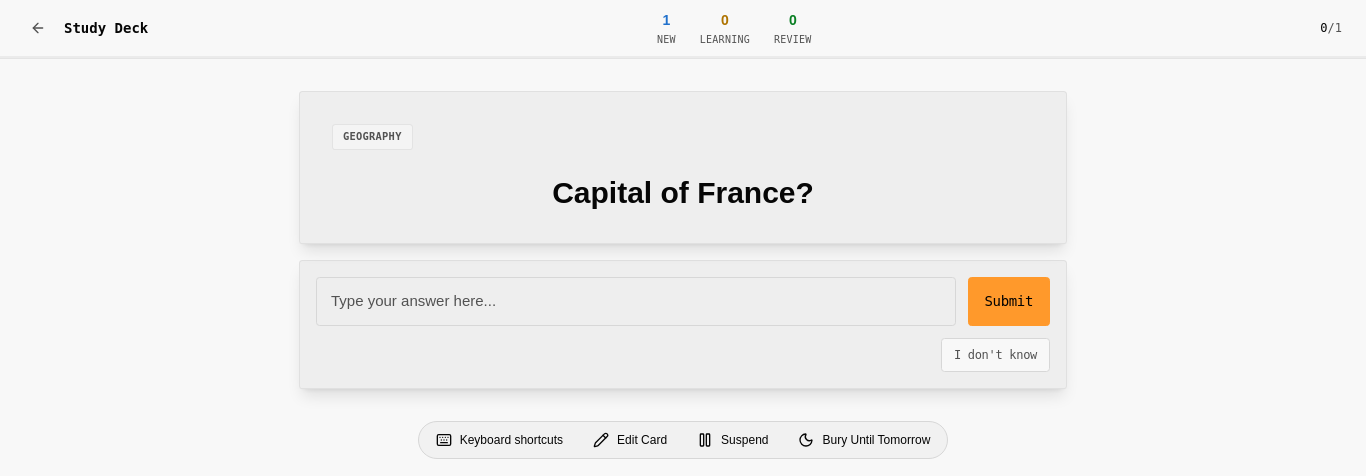
StudyScreen › ignores study shortcuts while the typed-answer input is focused
Click the field labelled "your answer": (636, 301) 316,277 -> 956,326
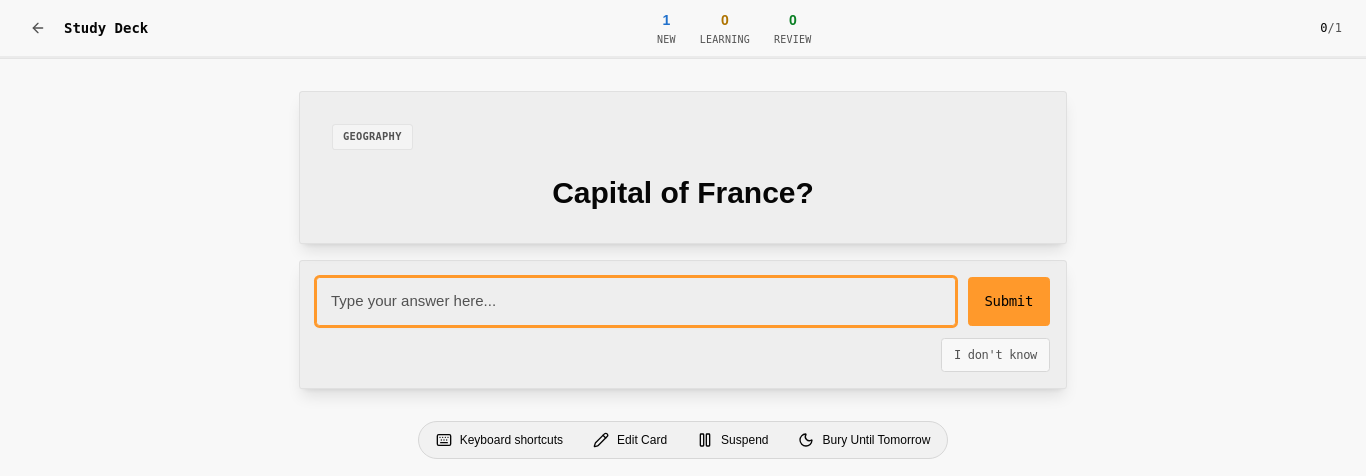
Type keys "1"
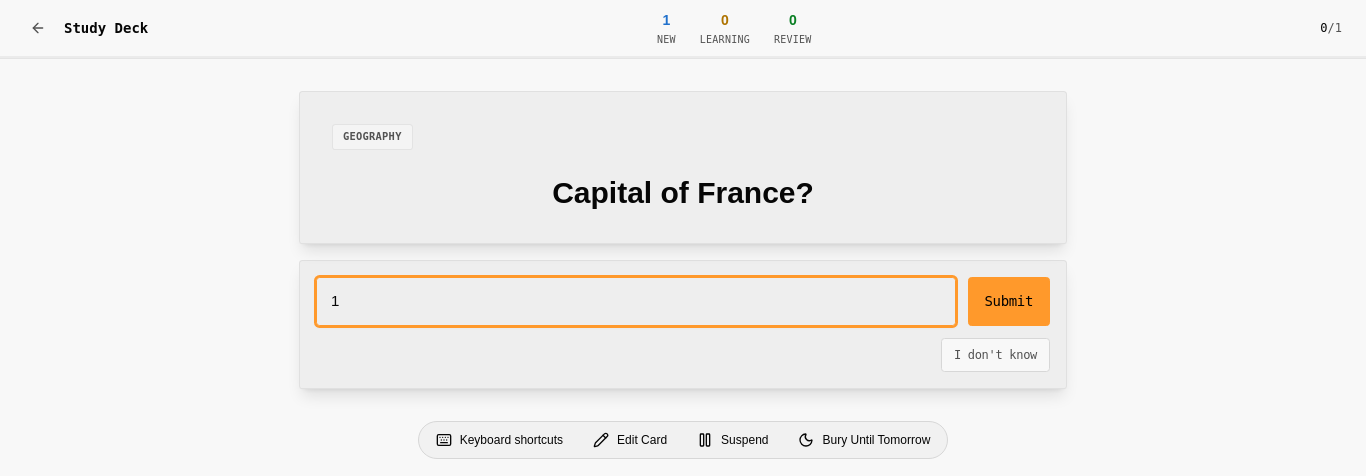
Check: the field named "your answer" holds "1", box 316,277 -> 956,326
